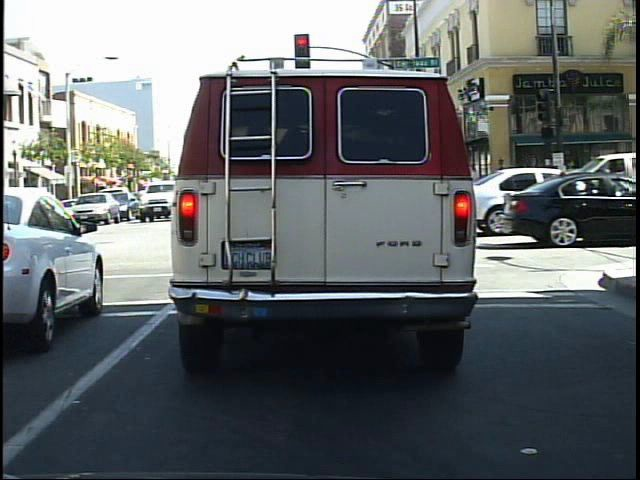person: (536, 154, 564, 218), (516, 157, 541, 212), (493, 155, 513, 213), (504, 162, 523, 212)
